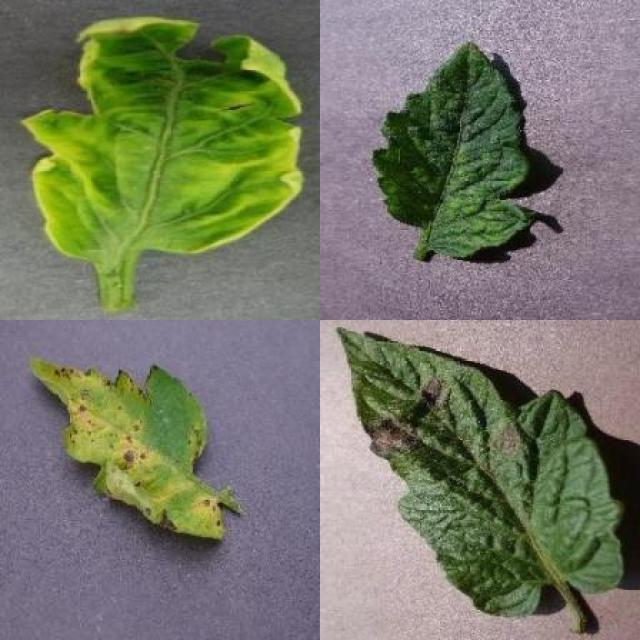Late Blight: (338, 324, 628, 616)
Mosaic Virus: (368, 41, 542, 260)
Septoria: (28, 355, 225, 542)
Yellow Leaf Curl Virus: (22, 16, 304, 264)
